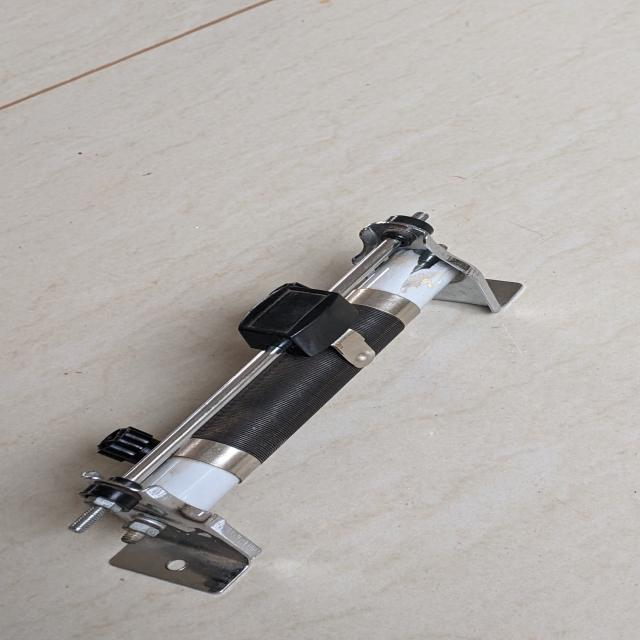Rheostat: (57, 180, 526, 607)
